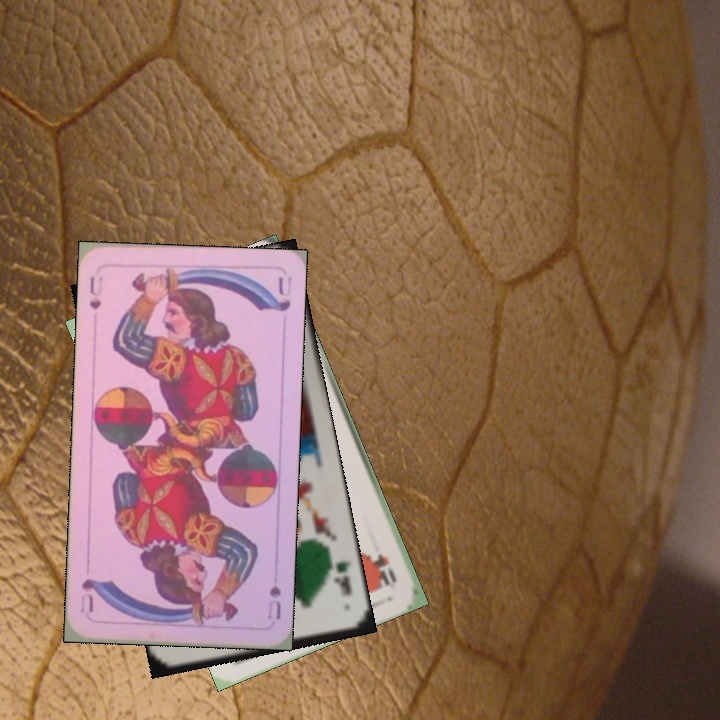GK: (325, 553, 354, 598)
HO: (372, 549, 400, 591)
SU: (264, 581, 284, 622), (85, 273, 105, 313)
